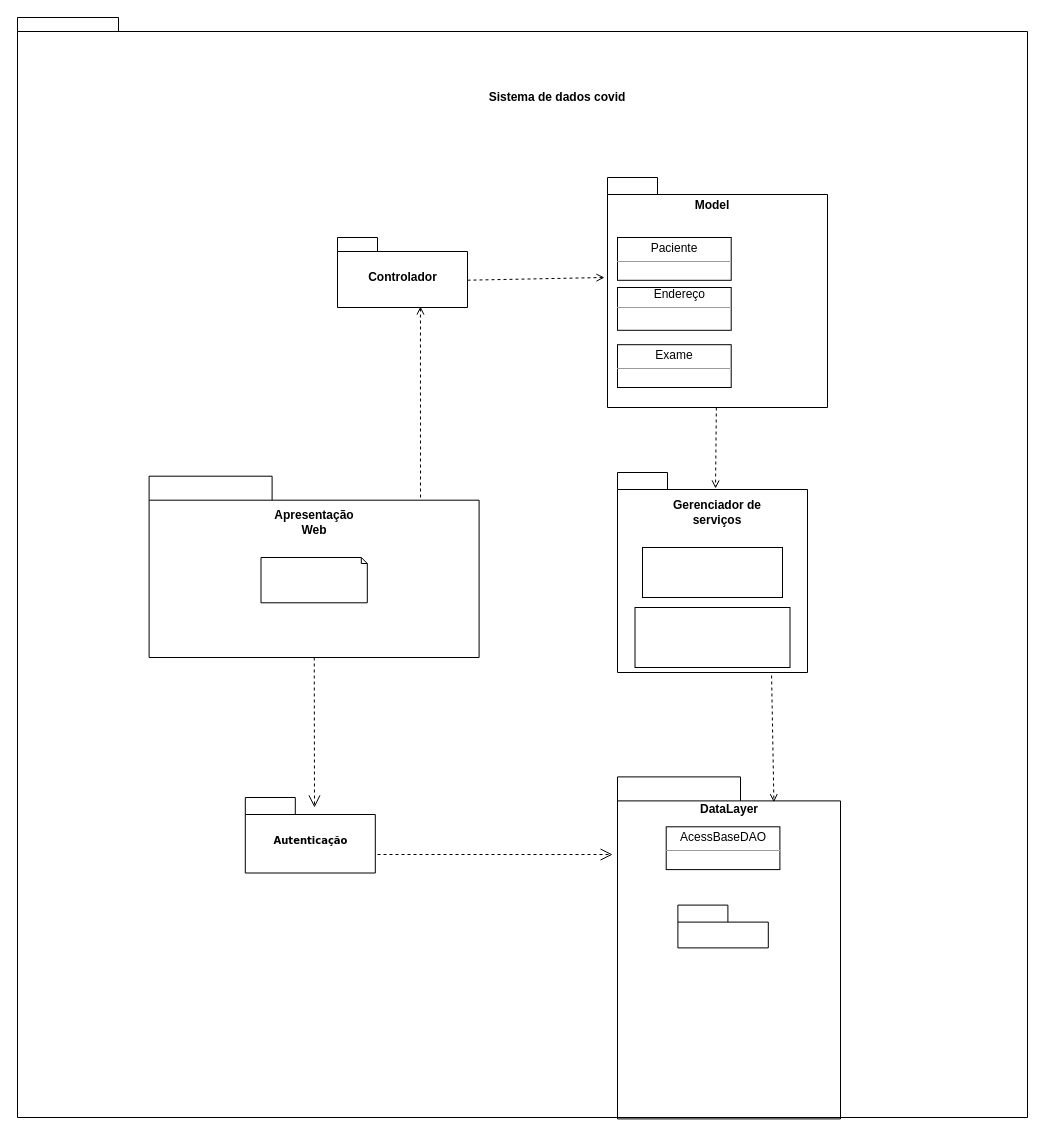
This 1045x1145 diagram has some shape labels left out. The shapes that lost their labels are listed below. From the top down, each one's box as (x1, y1, x2, y2) in pixels, then its label:
(260, 556, 367, 603): Componentes Web
(642, 546, 782, 598): Requisição Serviço
(634, 606, 790, 668): ReceberResultadoServiço
(677, 904, 768, 948): Persistência
